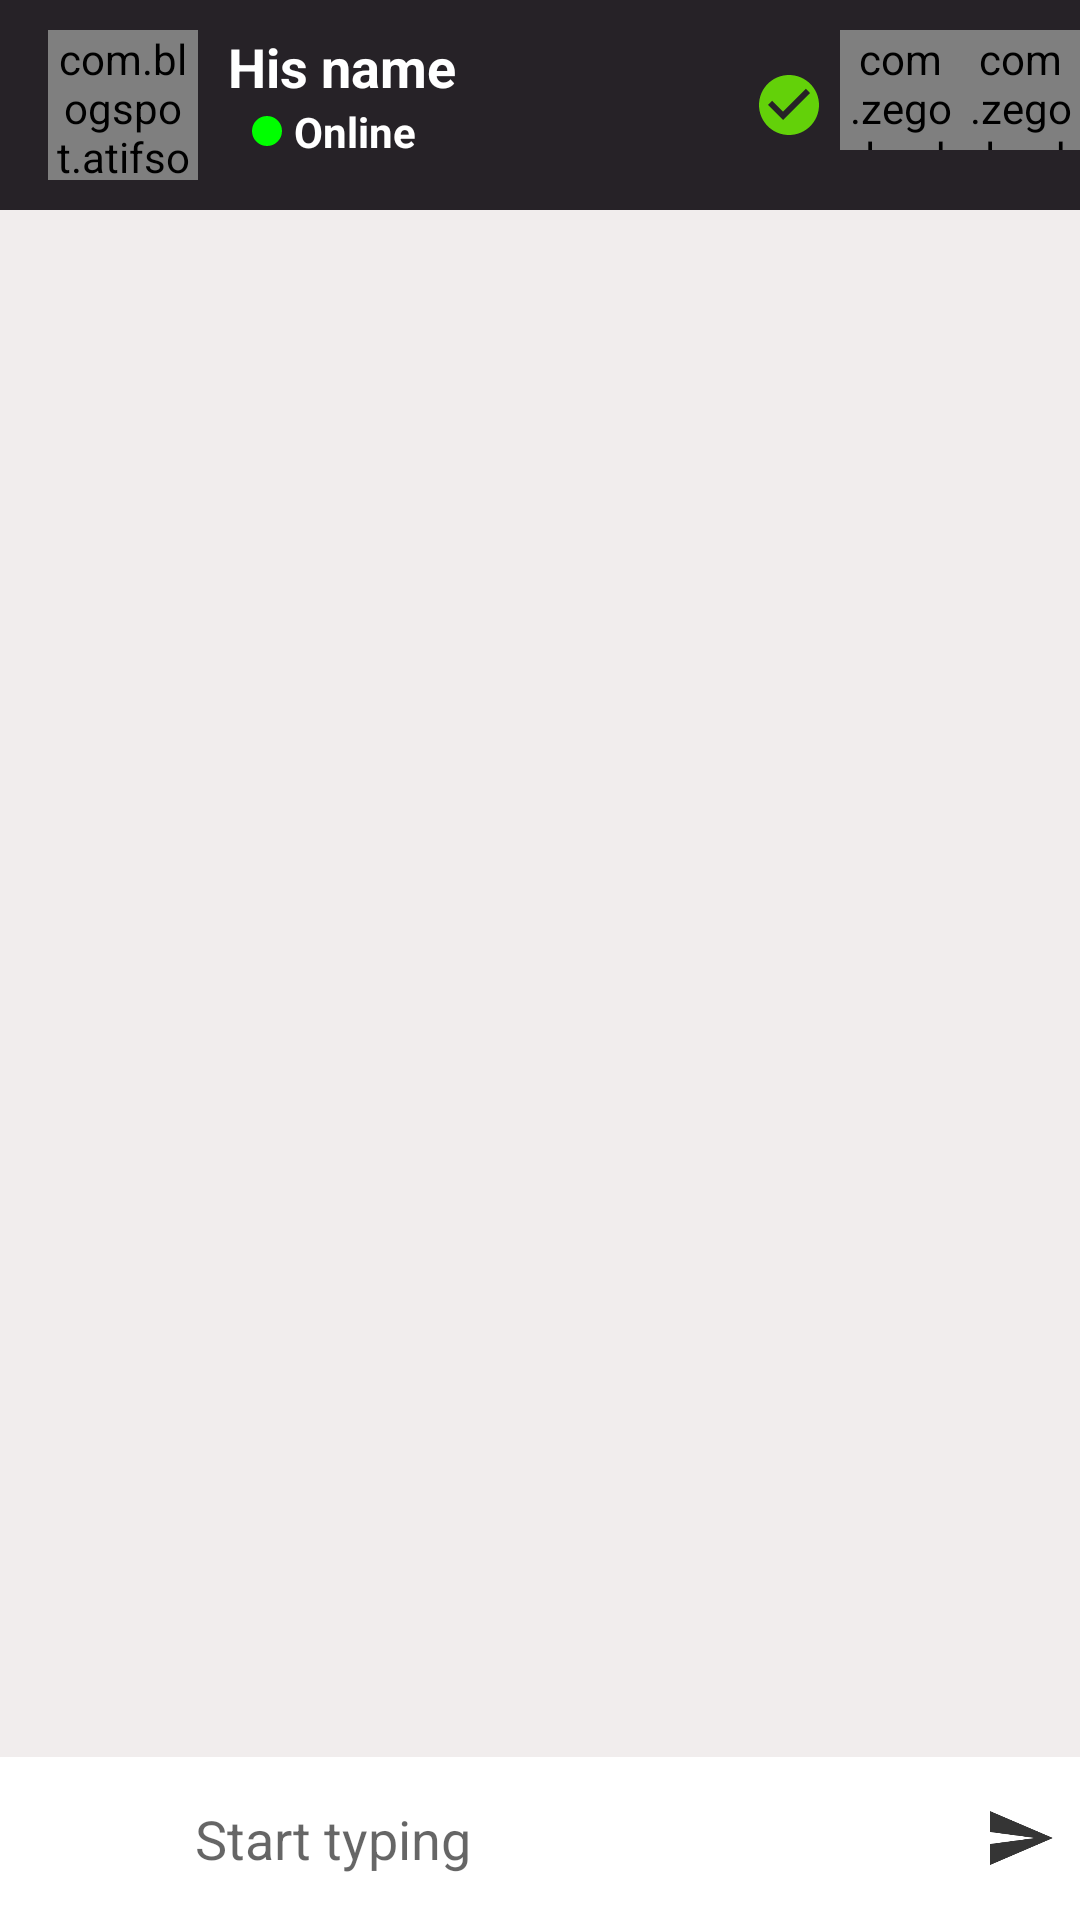

Screen size 1080 x 1920. Icon name, then its center in pixels as (x,y):
send: (1021,1838)
